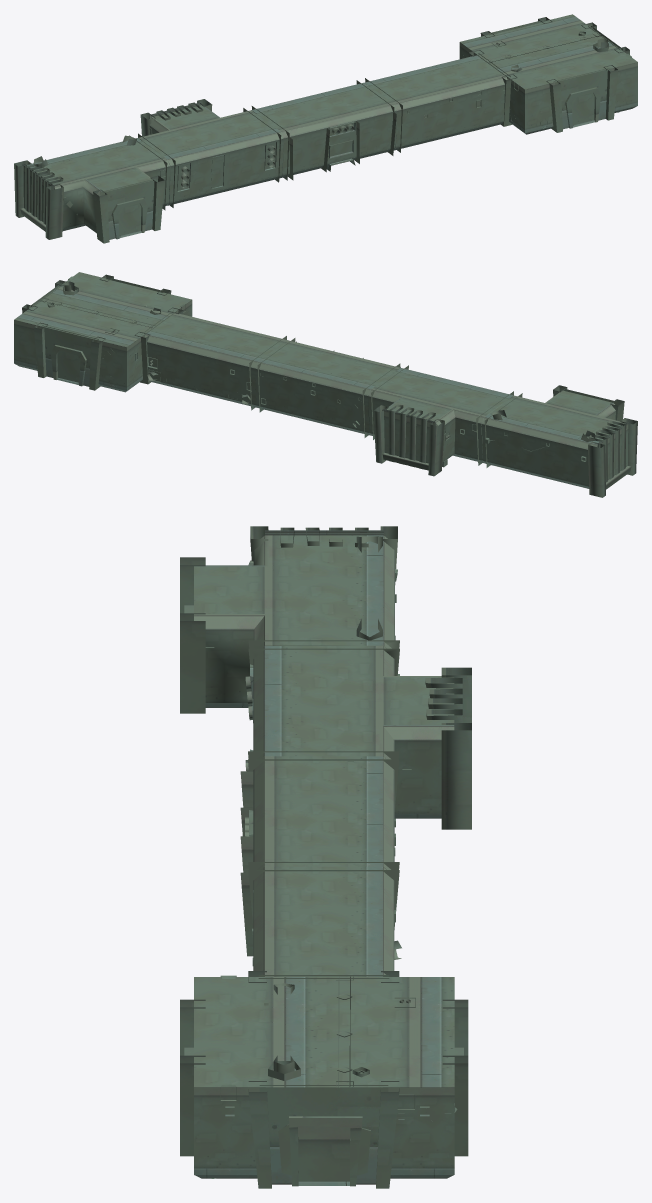
Rendered from Combined_Mesh_root_scene__7_93922163__zombies2_diffuse_09_d56e2e54_c1f257.obj.
3 views of the same model, one above another, from view 1: azimuth 30°, elevation 25°; view 2: azimuth 150°, elevation 25°; view 3: azimuth 270°, elevation 25° (orthographic). The views are drawn at different scales.
Size of the model in its own units: 102 by 9.84 by 22.39.
Materials: 84 (84 with a texture image).
